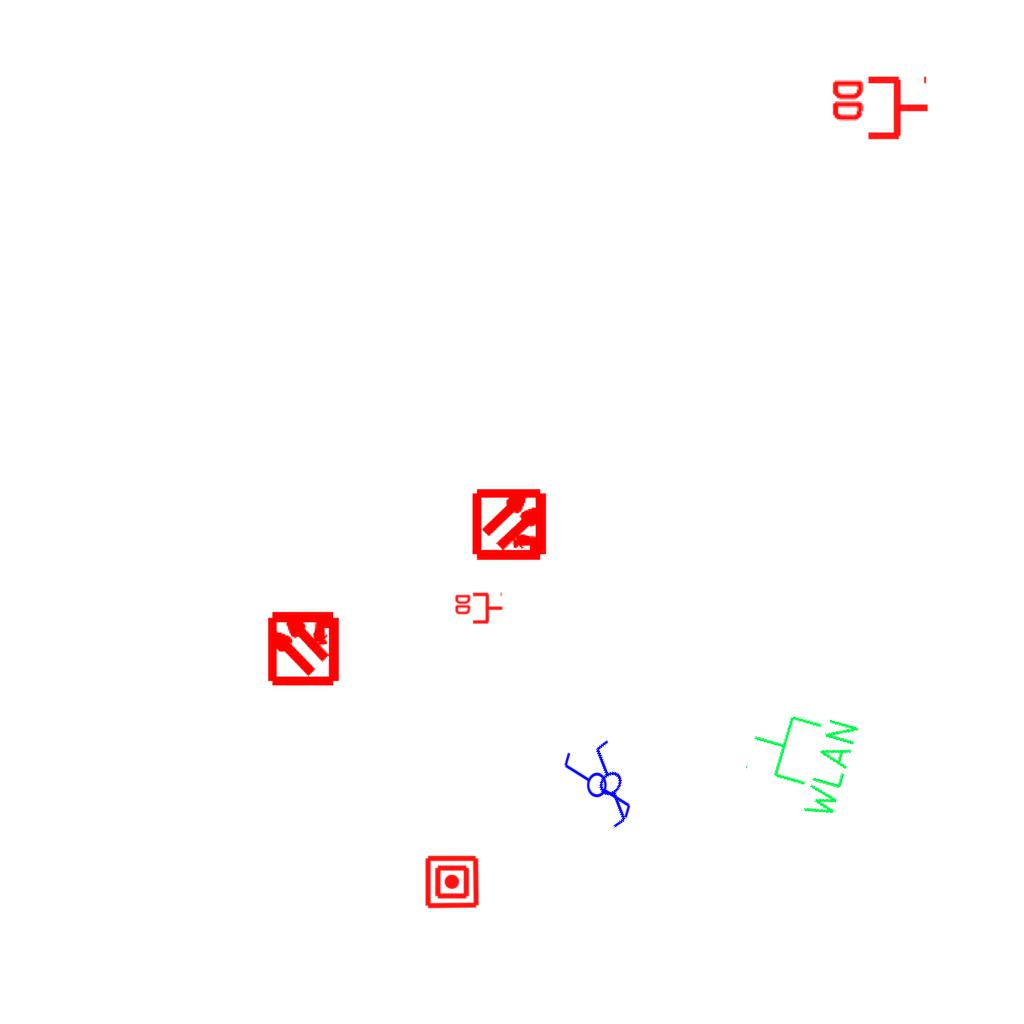Datenanschluss_zweifach: (828, 75, 931, 144), (453, 592, 504, 626)
NAM-Nichtautomatischer_Melder: (424, 854, 480, 910)
OT_Multisensormelder_(Kombination_RMO_WMD): (247, 590, 360, 703), (455, 468, 568, 581)
WLAN: (734, 695, 864, 826)
Wechselschalter: (561, 728, 667, 834), (562, 742, 634, 820)
